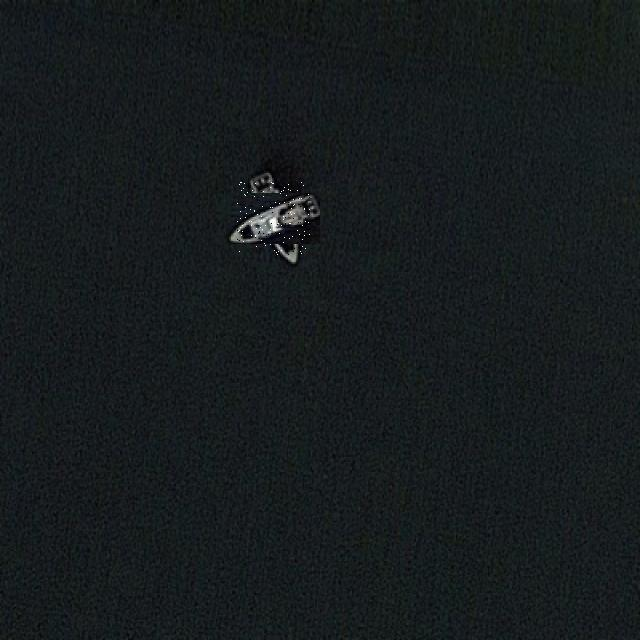boat: (237, 182, 310, 255)
